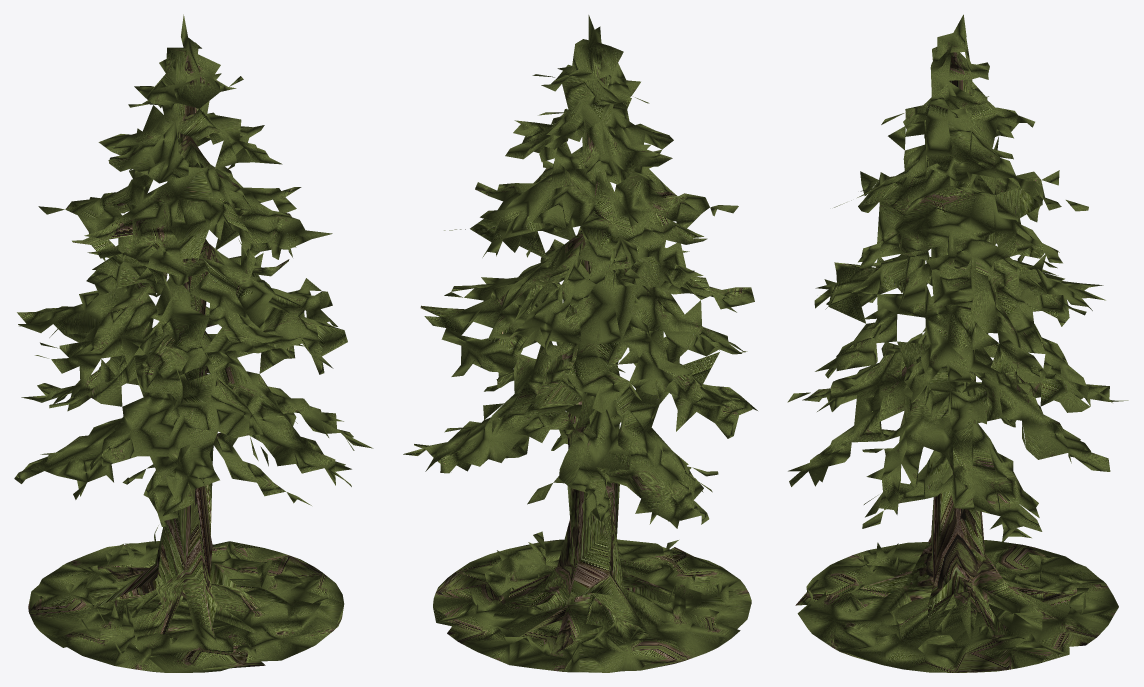
The model's file is tree_sentinel_mid.glb.
3 renders of one model, left to right at view 1: azimuth 30°, elevation 25°; view 2: azimuth 150°, elevation 25°; view 3: azimuth 270°, elevation 25°, orthographic.
Size of the model in its own units: 1.02 by 1.87 by 0.9793.
Materials: 1 (1 with a texture image).
